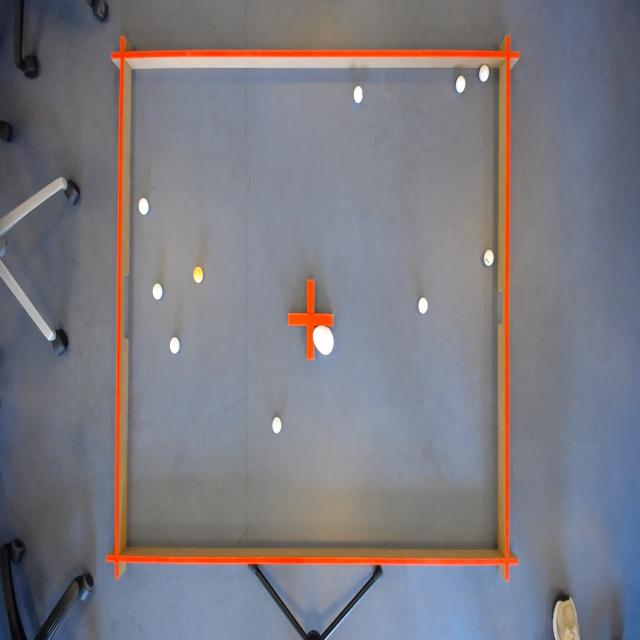cross: (286, 277, 335, 364)
egg: (310, 322, 336, 360)
orange_ball: (192, 263, 204, 287)
white_ball: (482, 246, 496, 271), (270, 413, 284, 437), (478, 61, 491, 85), (137, 194, 149, 220), (352, 84, 365, 107), (168, 336, 181, 357), (418, 294, 430, 316), (454, 74, 466, 96), (152, 281, 163, 304)
